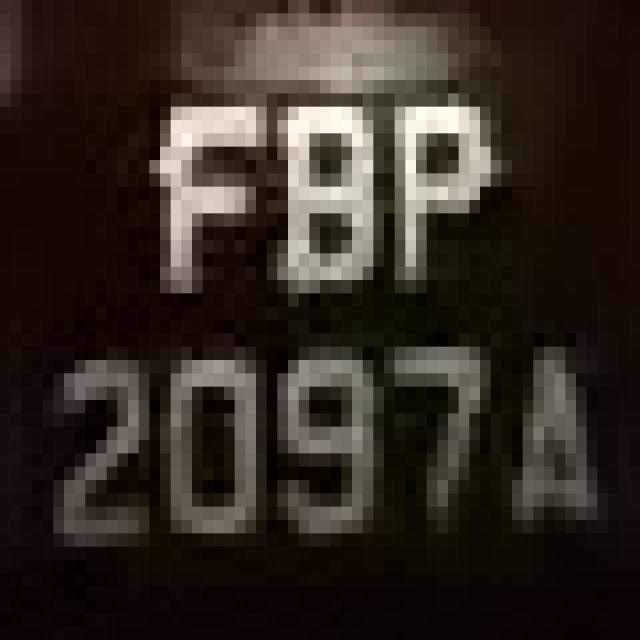0: (160, 306, 256, 586)
2: (54, 334, 150, 574)
7: (363, 320, 480, 533)
9: (256, 333, 395, 547)
A: (491, 320, 618, 560)
B: (267, 80, 384, 347)
F: (139, 66, 277, 346)
P: (373, 53, 491, 280)
